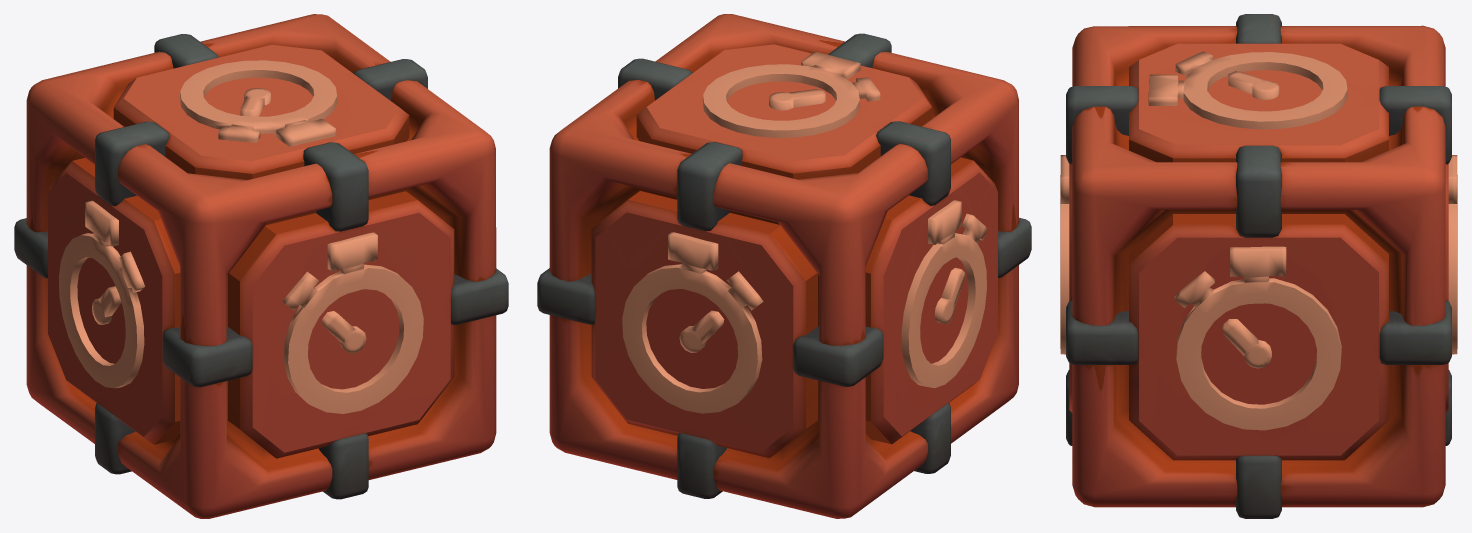
The model's file is Recharging_Powerup.fbx.
3 renders of one model, left to right at view 1: azimuth 30°, elevation 25°; view 2: azimuth 150°, elevation 25°; view 3: azimuth 270°, elevation 25°, orthographic. The views are drawn at different scales.
Parts seen in each view (by area): view 1: Recharging_Powerup; view 2: Recharging_Powerup; view 3: Recharging_Powerup.
Boxes of the visible parts, x1,y1,x2,y2 form: Recharging_Powerup: [14, 14, 508, 518]; Recharging_Powerup: [537, 14, 1031, 518]; Recharging_Powerup: [1060, 14, 1457, 518].
Size of the model in its own units: 0.124 by 0.124 by 0.124.
